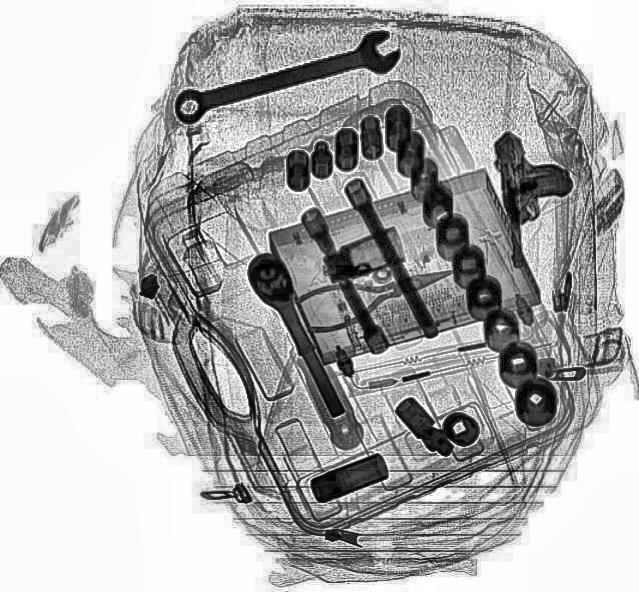Gun: (489, 126, 580, 268)
Pliers: (292, 251, 463, 339)
Wrench: (166, 25, 406, 129)
